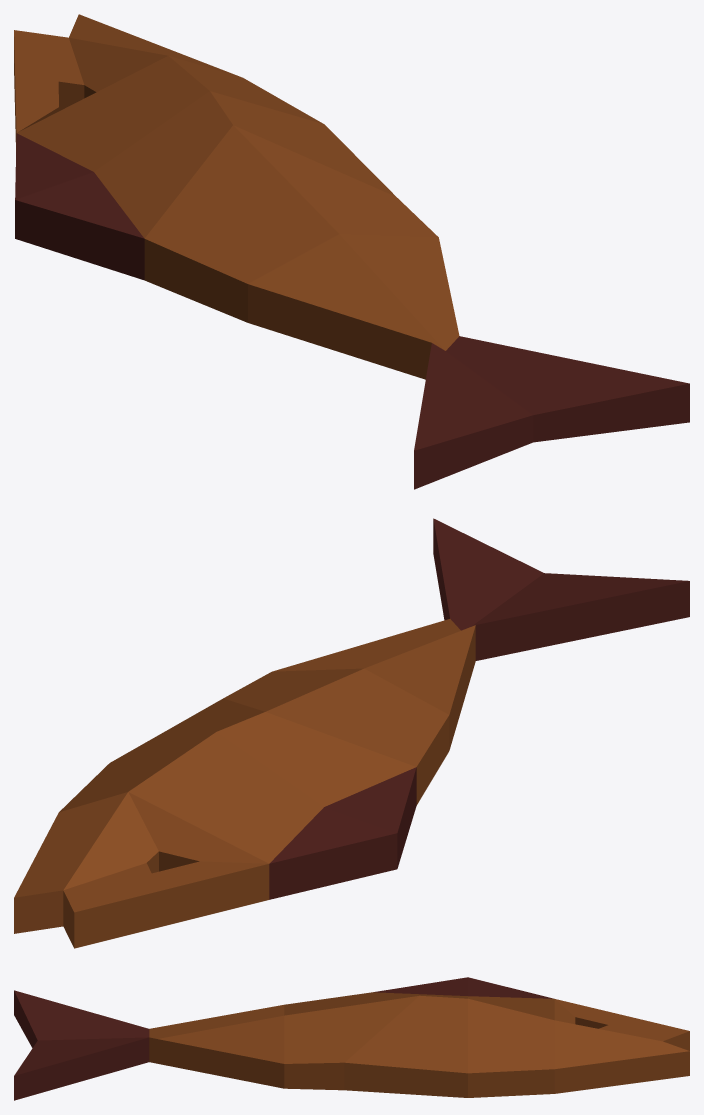
Rendered from Fish.fbx.
3 views of the same model, one above another, from view 1: azimuth 30°, elevation 25°; view 2: azimuth 150°, elevation 25°; view 3: azimuth 270°, elevation 25° (orthographic). The views are drawn at different scales.
Visible parts, largest first — view 1: Fish; view 2: Fish; view 3: Fish.
Part boxes in pixels (x1=…): Fish: x1=14, y1=14, x2=689, y2=489; Fish: x1=14, y1=518, x2=689, y2=948; Fish: x1=14, y1=977, x2=689, y2=1100.
Bounding box in the file's own units: 8.37 × 2.52 × 24.21.
